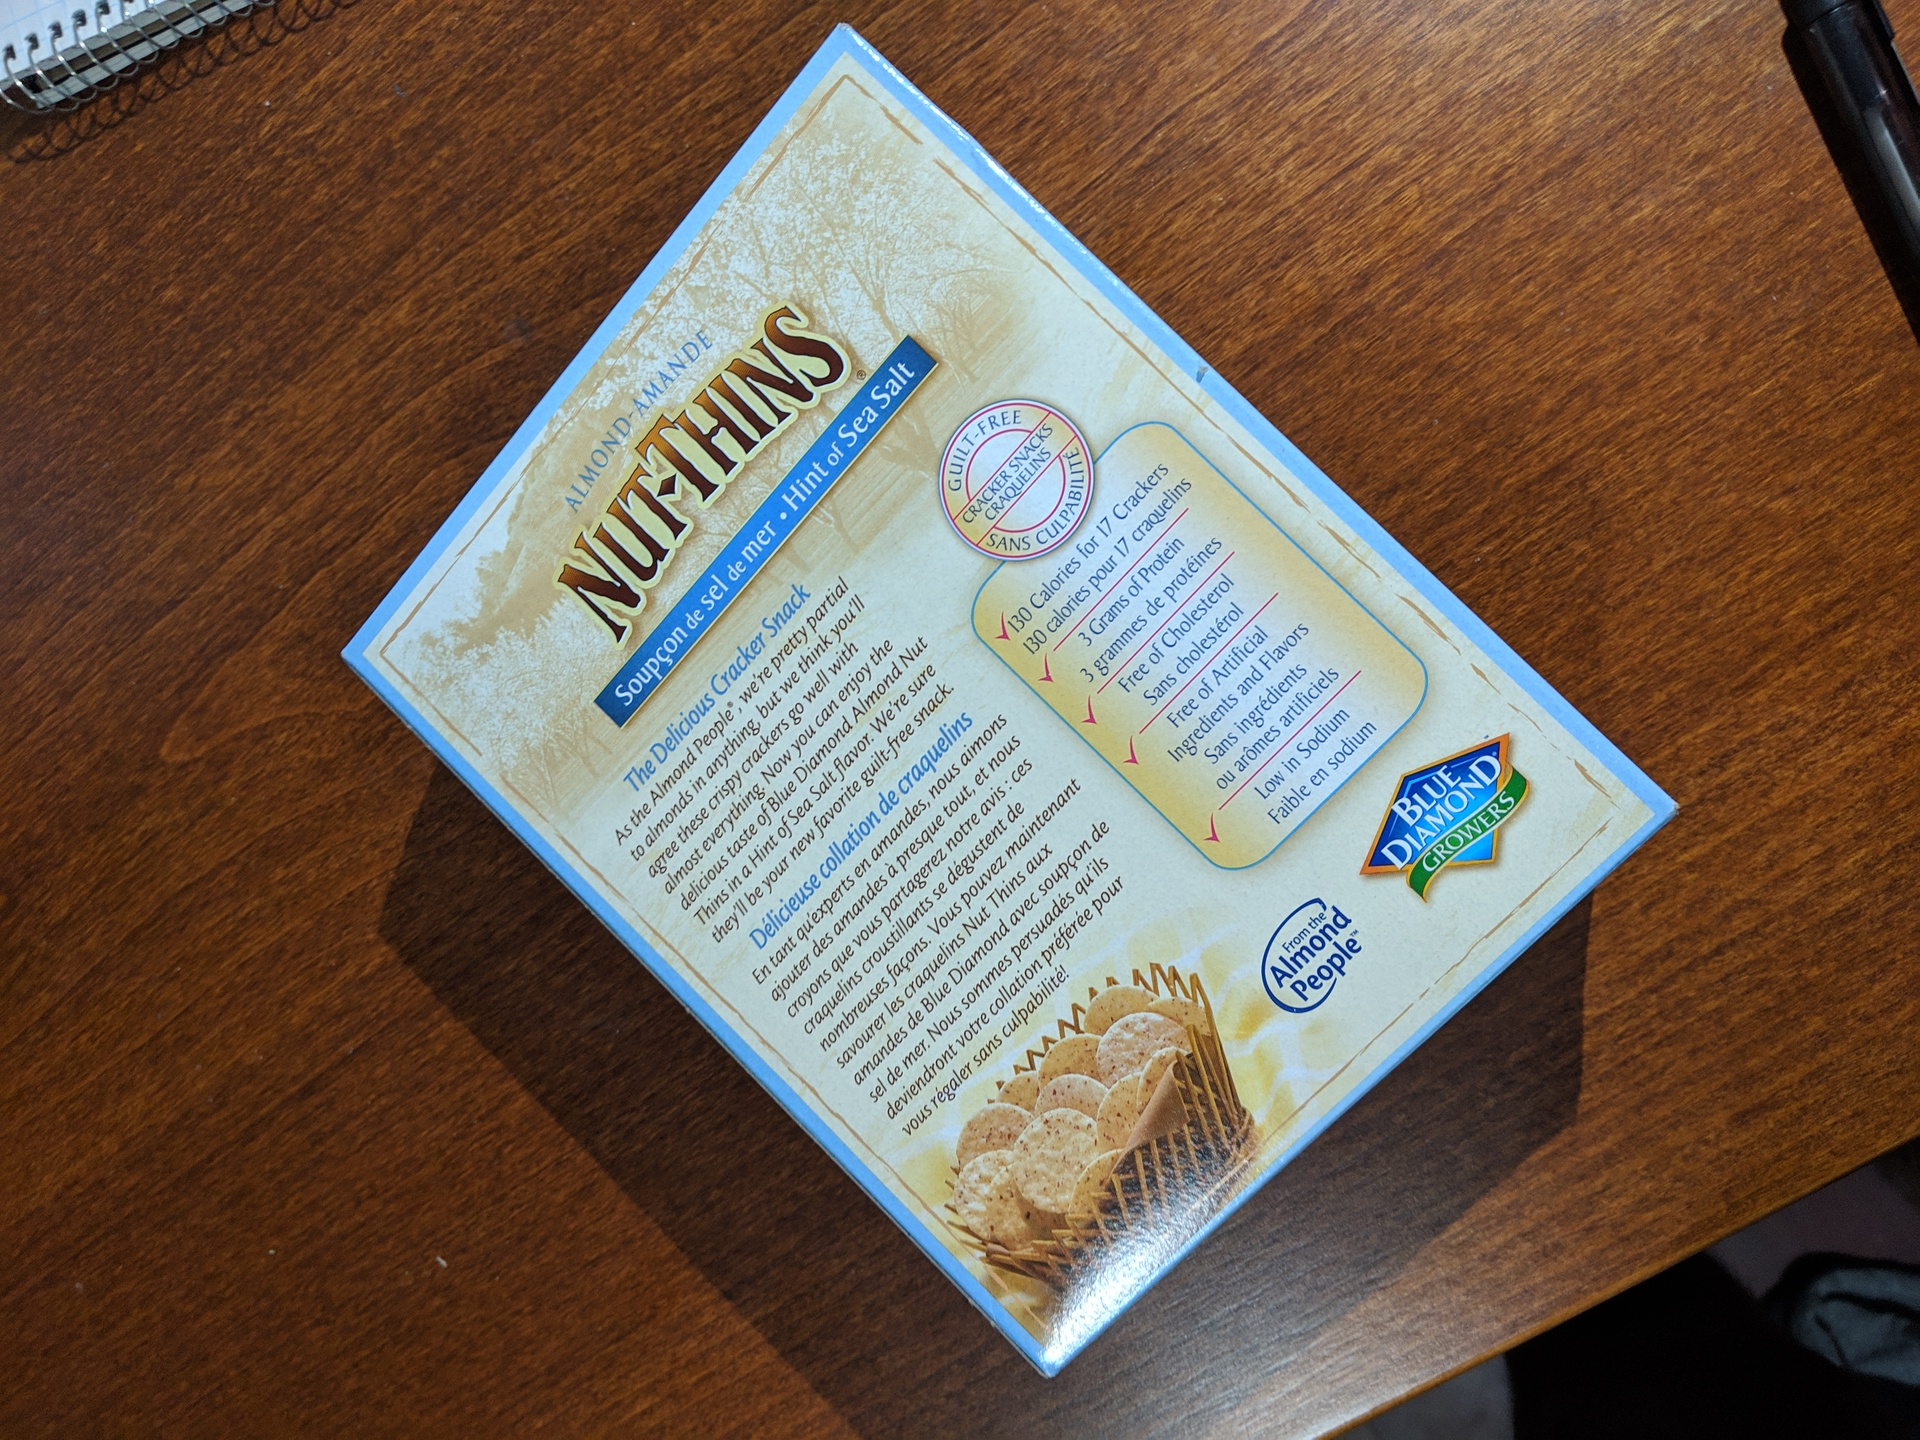blue_diamond_nut_thins_almond_seasalt: (460, 82, 1584, 1293)
